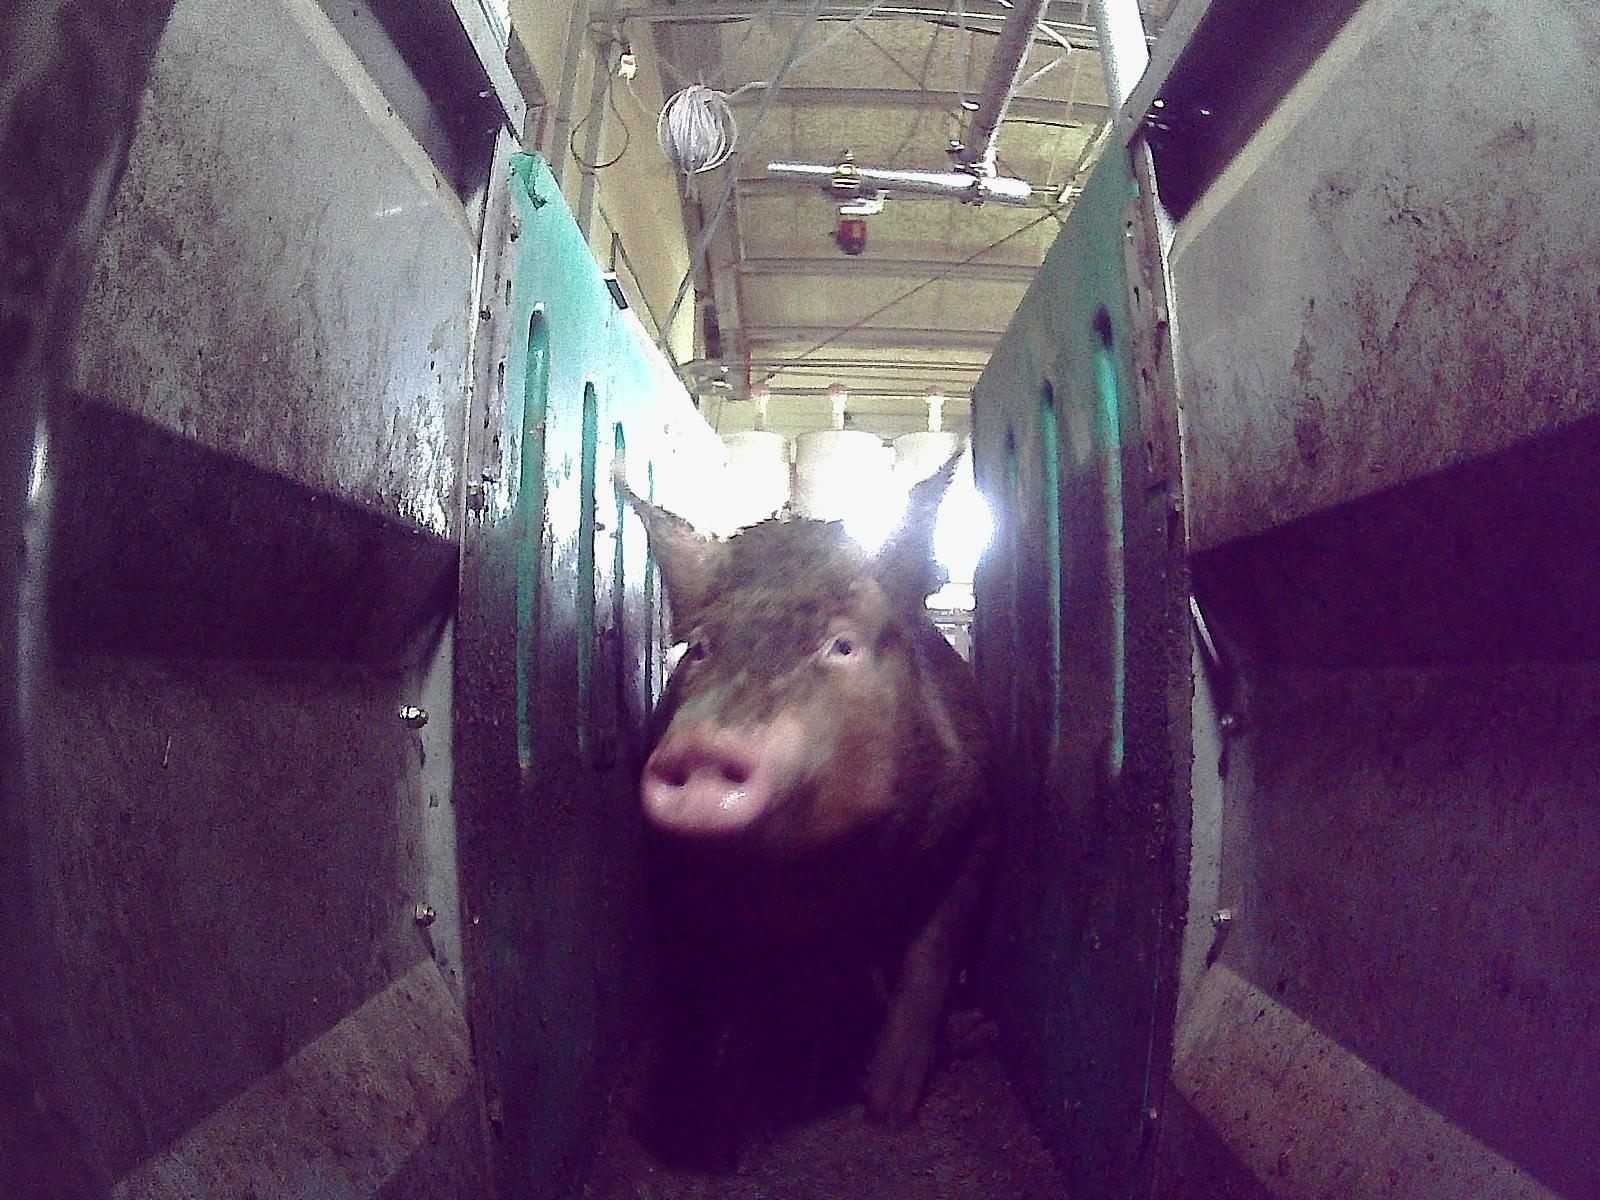Face: (641, 525, 910, 857)
